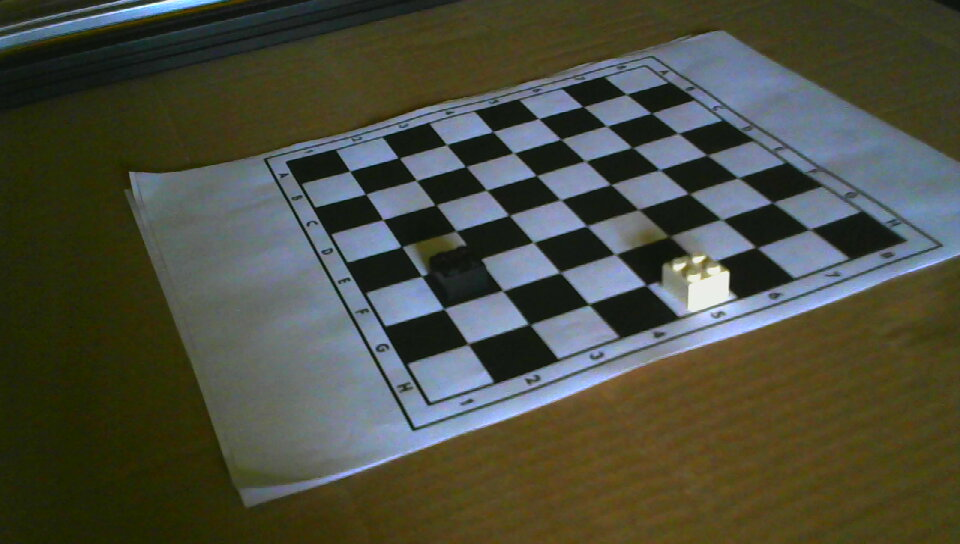bp: (429, 246, 488, 302)
wp: (663, 251, 731, 309)
